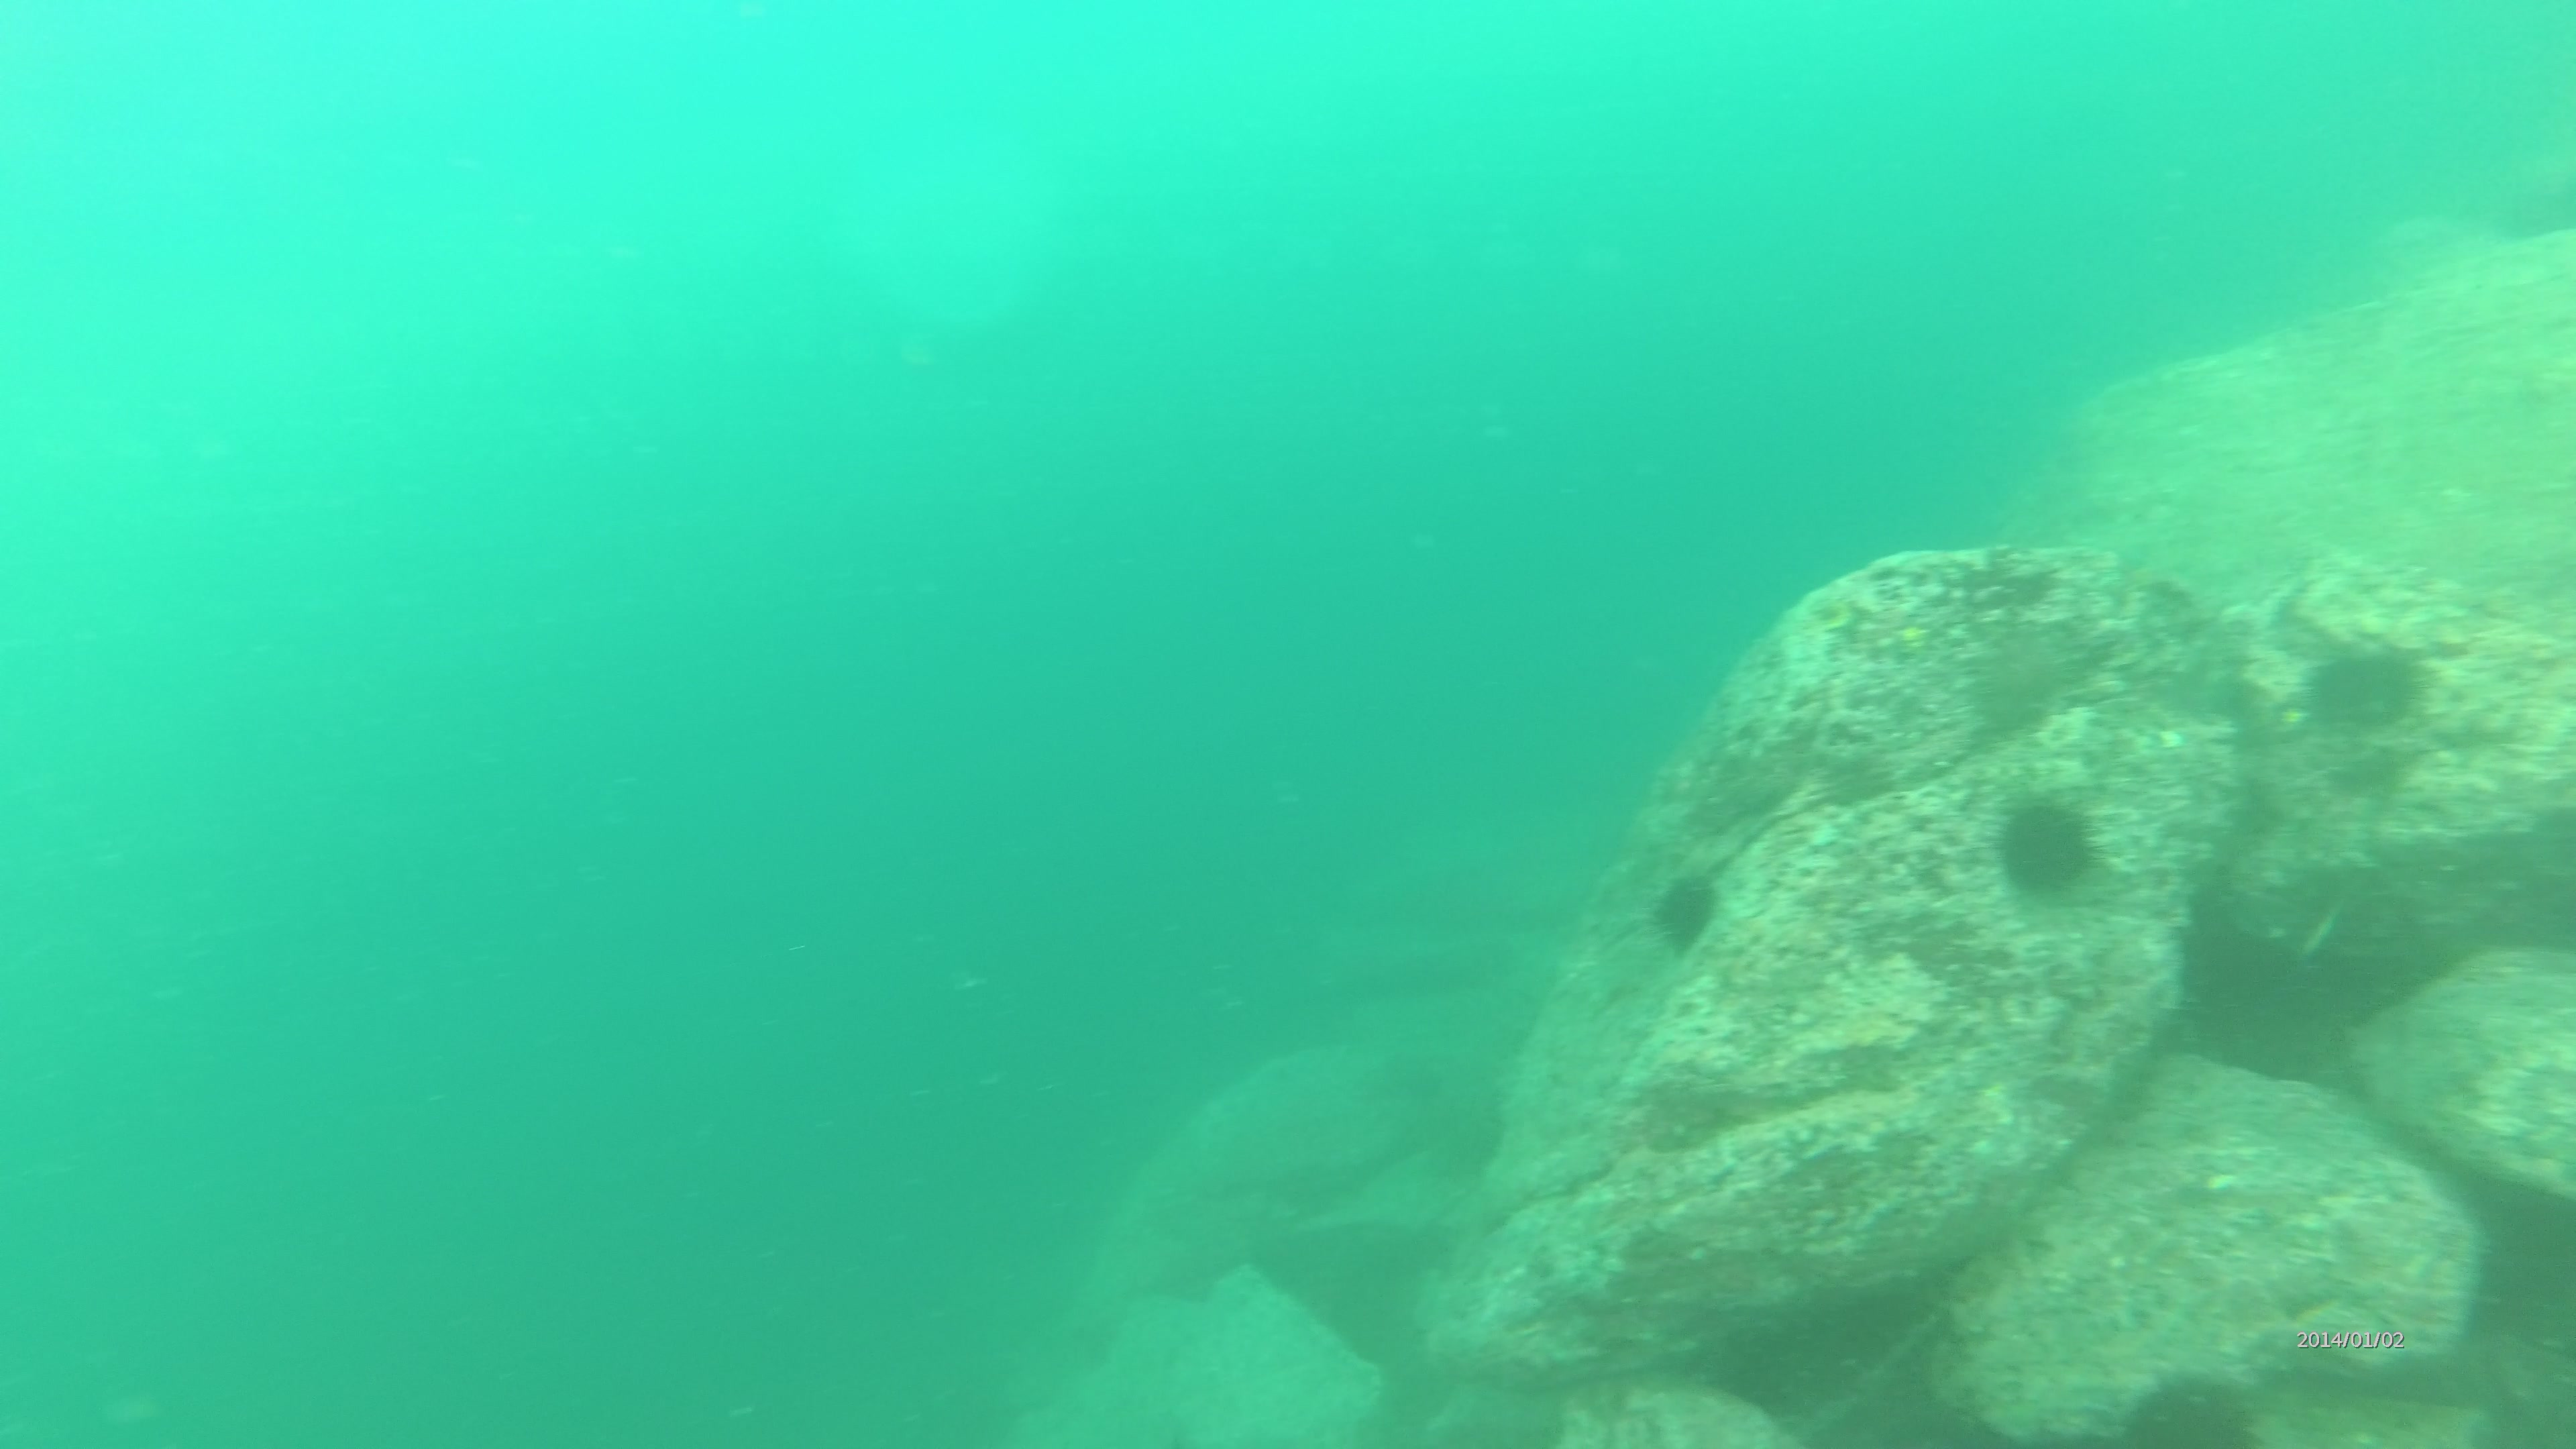echinus: (2112, 1357, 2275, 1449), (2293, 648, 2426, 748), (1985, 794, 2104, 901), (1973, 651, 2082, 740), (1647, 870, 1721, 952)
